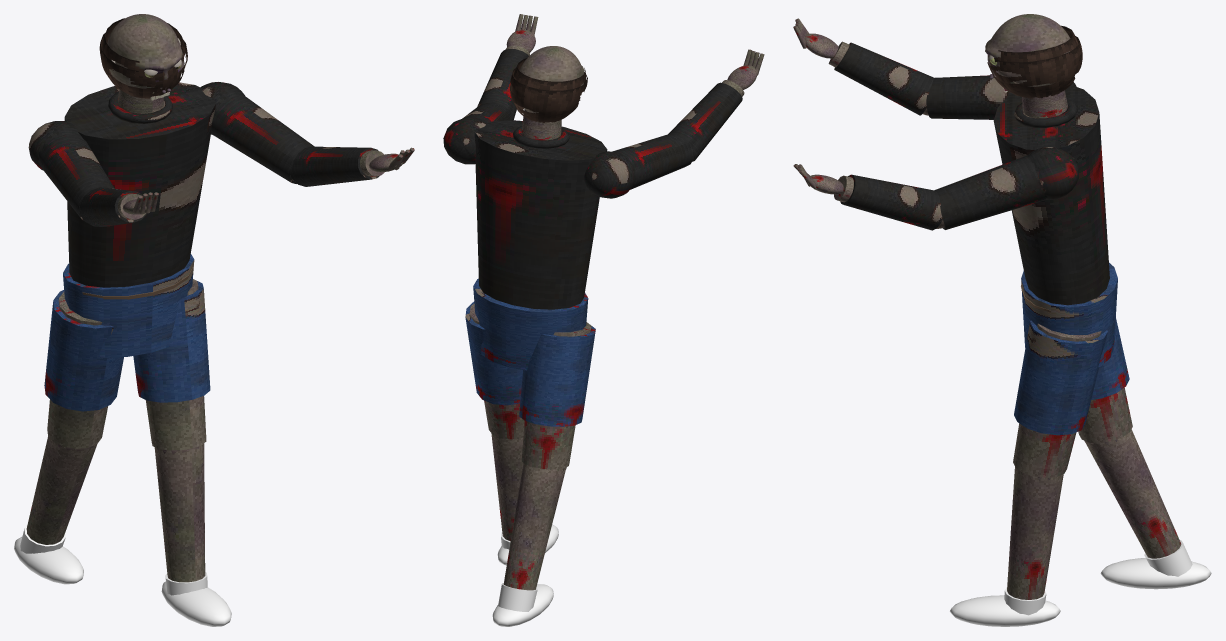
File: Zombie_023.glb
3 renders of one model, left to right at view 1: azimuth 30°, elevation 25°; view 2: azimuth 150°, elevation 25°; view 3: azimuth 270°, elevation 25°, orthographic. The views are drawn at different scales.
Parts seen in each view (by area): view 1: Zombie_023, object 18, object 12, object 4, object 44, object 45; view 2: Zombie_023, object 4, object 45, object 18, object 12, object 44, object 5, object 13; view 3: Zombie_023, object 4, object 12, object 18, object 45, object 44, object 5.
Part boxes in pixels (<box>): Zombie_023: <box>14,82,314,626</box>; object 18: <box>107,14,183,89</box>; object 12: <box>290,146,379,186</box>; object 4: <box>79,187,146,226</box>; object 44: <box>101,18,185,93</box>; object 45: <box>99,33,187,98</box>; Zombie_023: <box>443,102,694,626</box>; object 4: <box>668,82,742,161</box>; object 45: <box>510,68,587,122</box>; object 18: <box>519,46,584,113</box>; object 12: <box>477,49,528,120</box>; object 44: <box>511,58,585,117</box>; object 5: <box>727,65,757,89</box>; object 13: <box>506,29,535,52</box>; Zombie_023: <box>926,75,1211,626</box>; object 4: <box>834,42,934,115</box>; object 12: <box>840,174,942,230</box>; object 18: <box>985,14,1070,86</box>; object 45: <box>987,36,1082,98</box>; object 44: <box>988,25,1080,91</box>; object 5: <box>804,33,838,58</box>.
Bounding box in the file's own units: 0.8719 × 1.79 × 1.15.
Materials: 16 (6 with a texture image).
